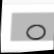no answer: (23, 21, 48, 42)
